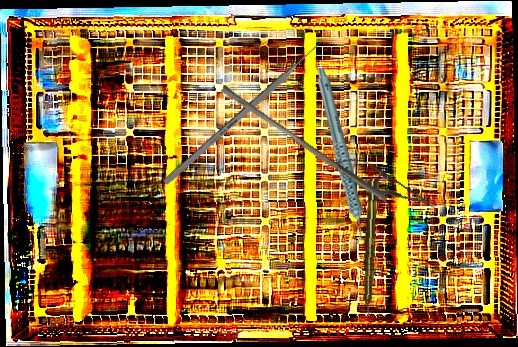Handpiece: (316, 68, 363, 244), (360, 178, 381, 317)
Needle Holder: (329, 149, 441, 219)
Pusher: (162, 32, 333, 186), (217, 84, 393, 203)
